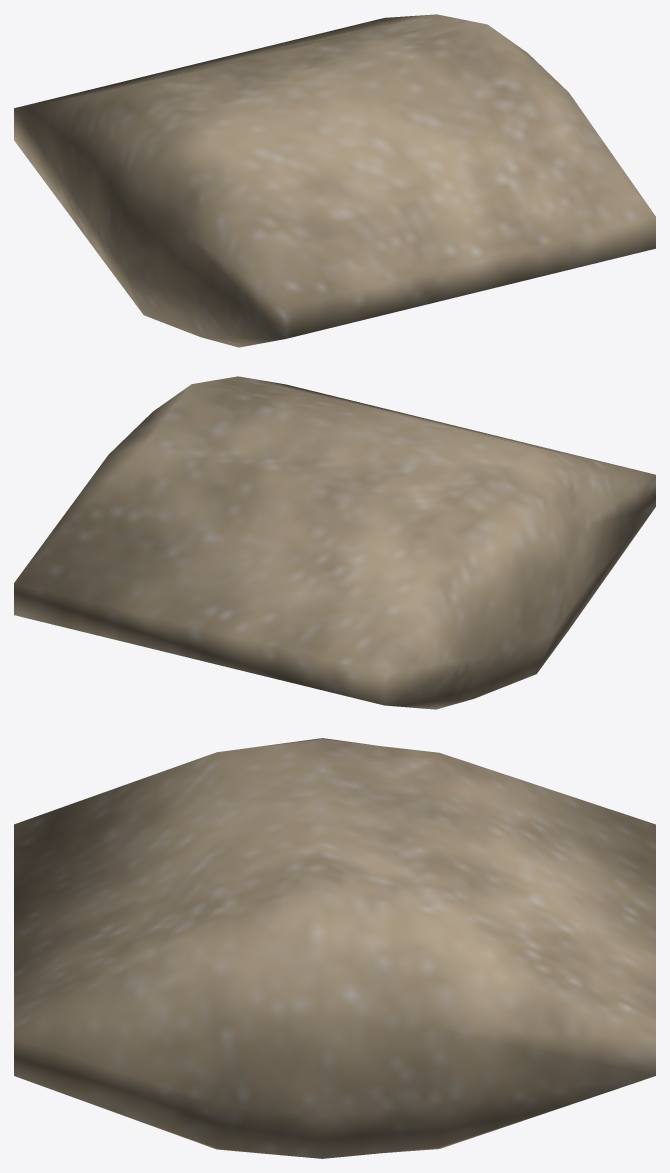
Rendered from BAG_2.fbx.
3 views of the same model, one above another, from view 1: azimuth 30°, elevation 25°; view 2: azimuth 150°, elevation 25°; view 3: azimuth 270°, elevation 25° (orthographic). The views are drawn at different scales.
Parts seen in each view (by area): view 1: BAG_2_low; view 2: BAG_2_low; view 3: BAG_2_low.
Boxes of the visible parts, x1,y1,x2,y2 form: BAG_2_low: (14,14,655,347); BAG_2_low: (14,376,655,709); BAG_2_low: (14,738,655,1158).
Size of the model in its own units: 43 by 22.13 by 48.53.
